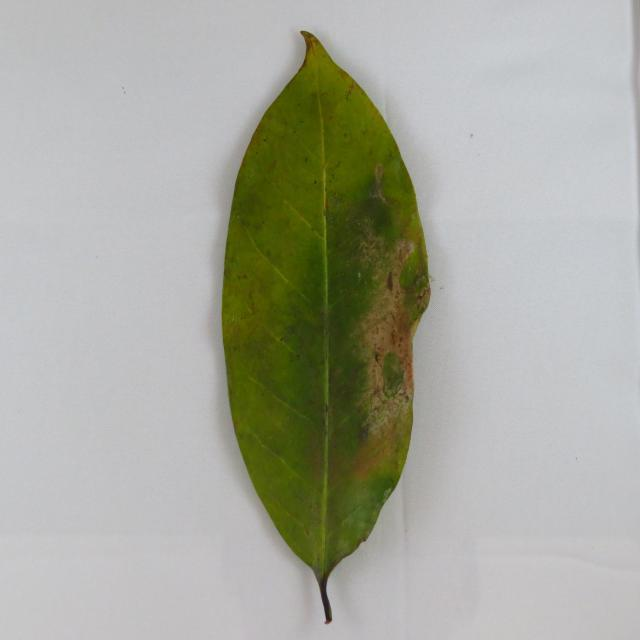DeficienciaNutricional-Nitrogeno: (216, 33, 437, 569)
